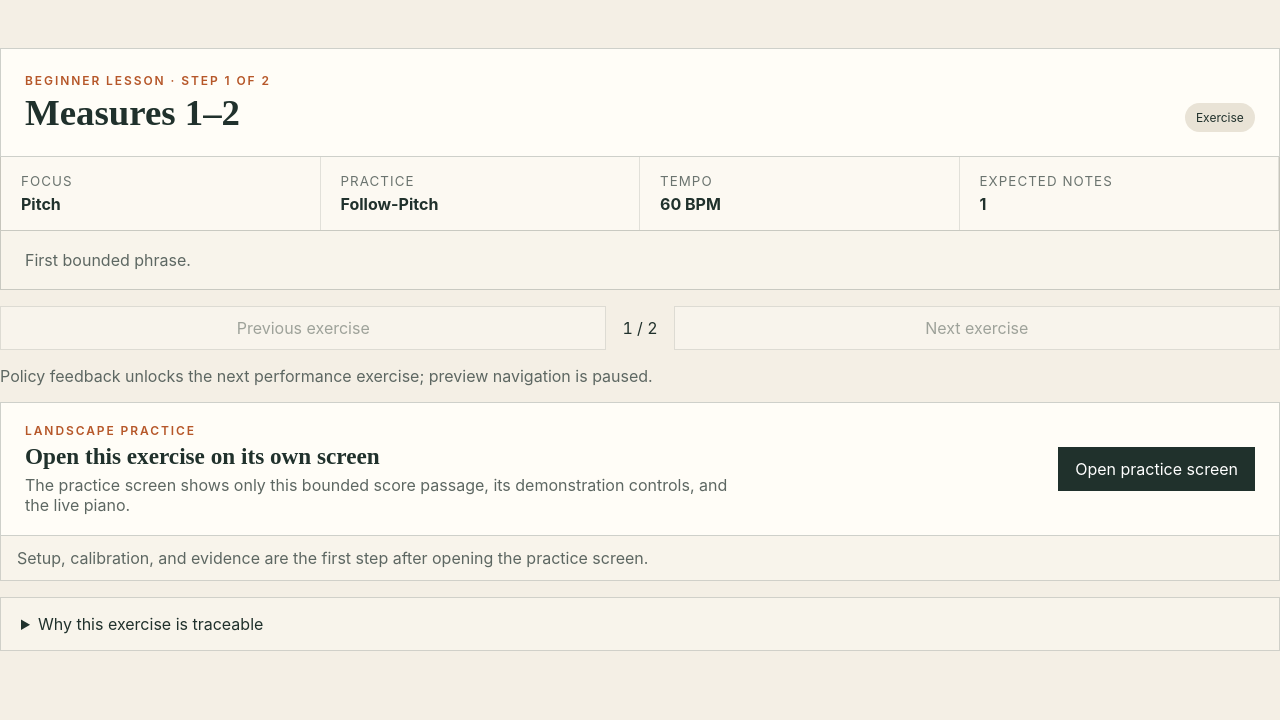
Test: TEST-APP-TEACHING-004 freezes recorded aids and policy-controls progression
Expected: the button "Next exercise" is disabled, x1=674 y1=306 x2=1279 y2=350
Expected: the text "Policy feedback unlocks the next performance exercise" is shown, x1=0 y1=366 x2=653 y2=386
Click the button "Open practice screen" at [1157, 469], box x1=1058 y1=447 x2=1255 y2=491
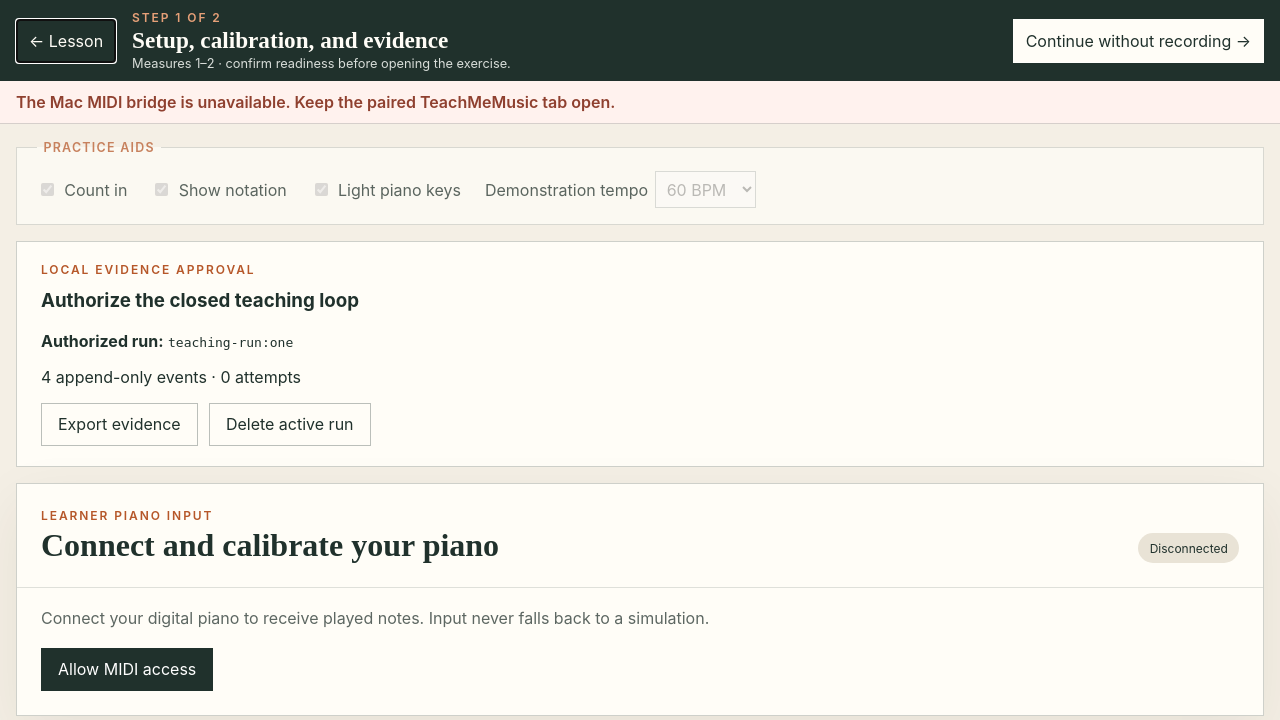
Expected: the checkbox labelled "Count in" is disabled, x1=41 y1=183 x2=54 y2=196
Expected: the checkbox labelled "Show notation" is disabled, x1=156 y1=183 x2=168 y2=196
Expected: the checkbox labelled "Light piano keys" is disabled, x1=315 y1=183 x2=328 y2=196
